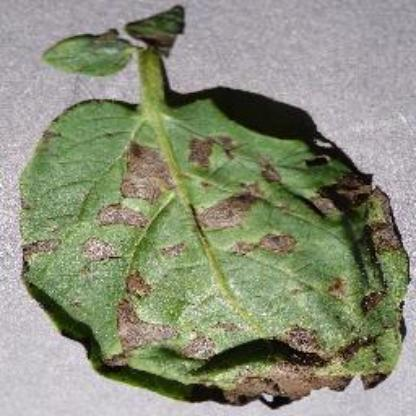Early-Blight: (21, 6, 402, 404)
